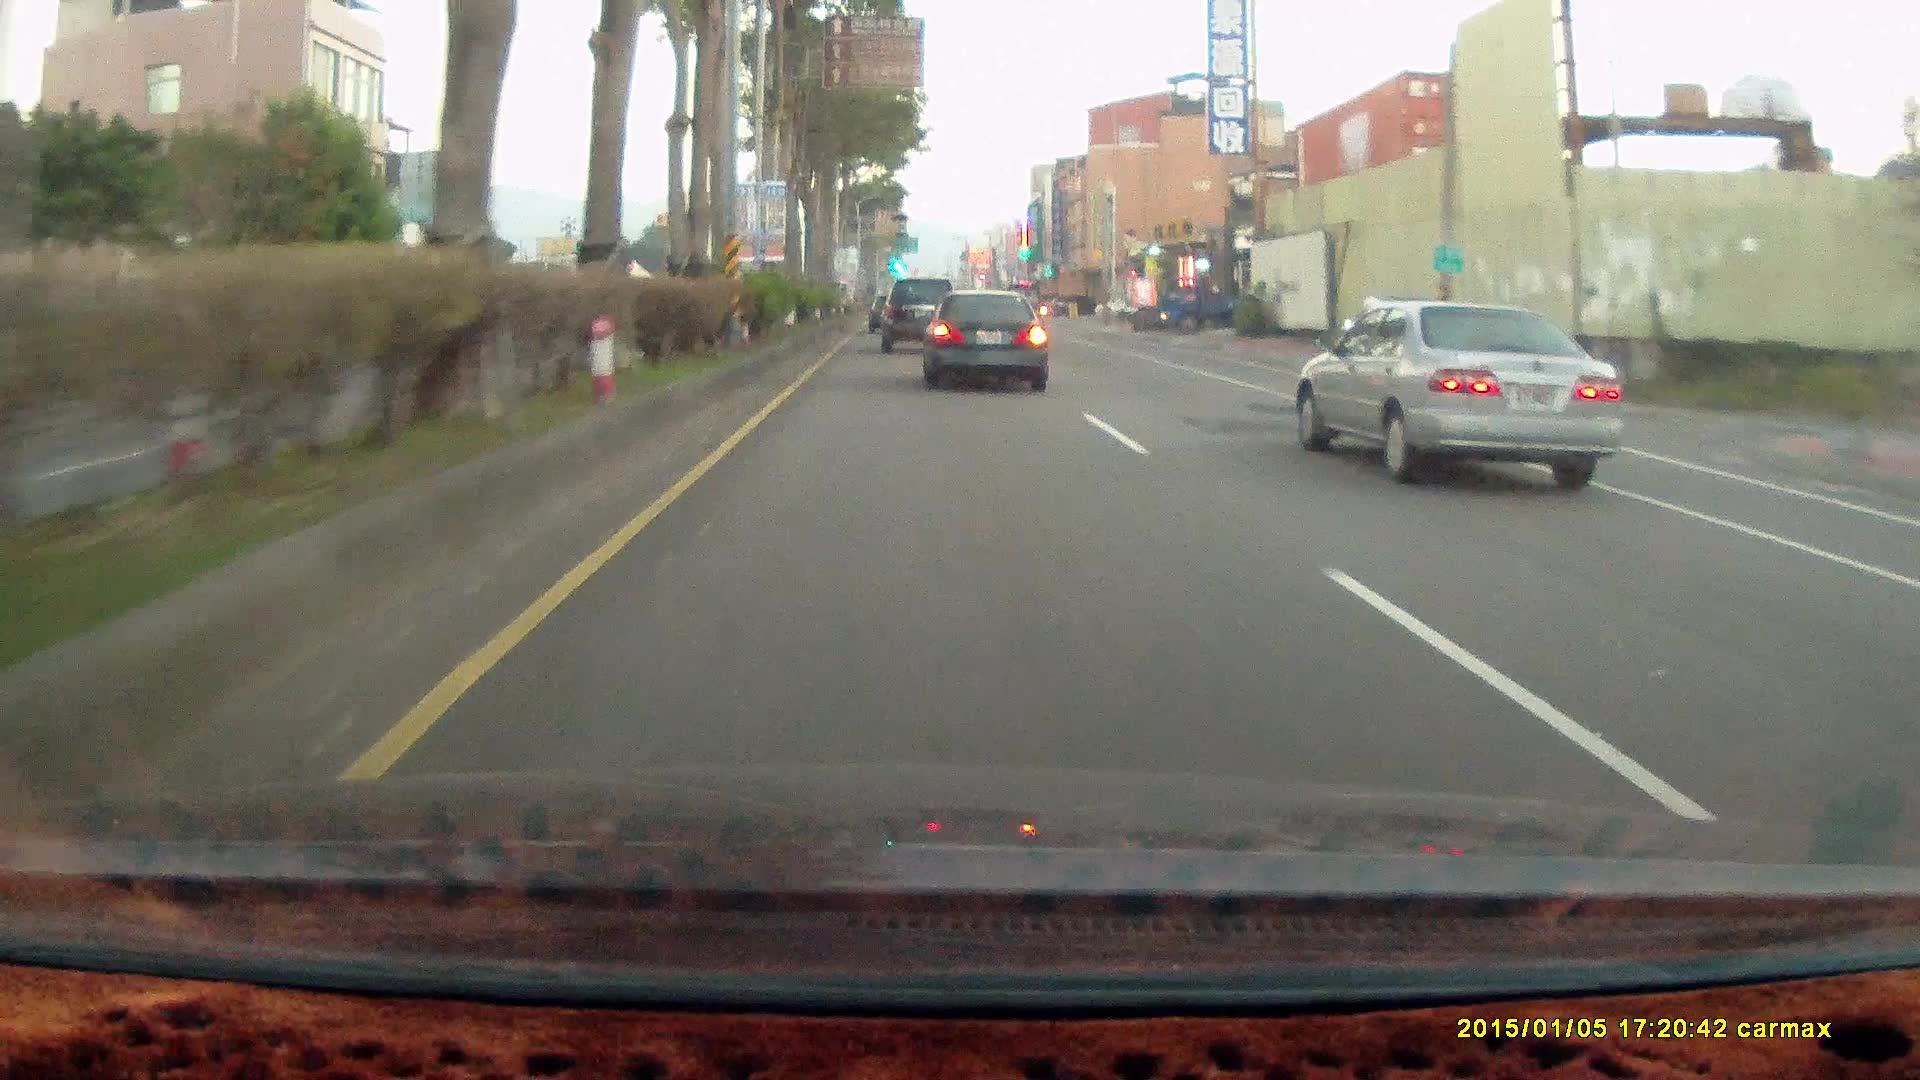vehicle: (1295, 295, 1625, 488), (1292, 297, 1630, 483), (916, 286, 1048, 390), (927, 291, 1056, 392), (1154, 272, 1251, 338), (1154, 272, 1251, 336), (880, 274, 960, 348), (880, 276, 960, 349), (1054, 293, 1097, 314)
